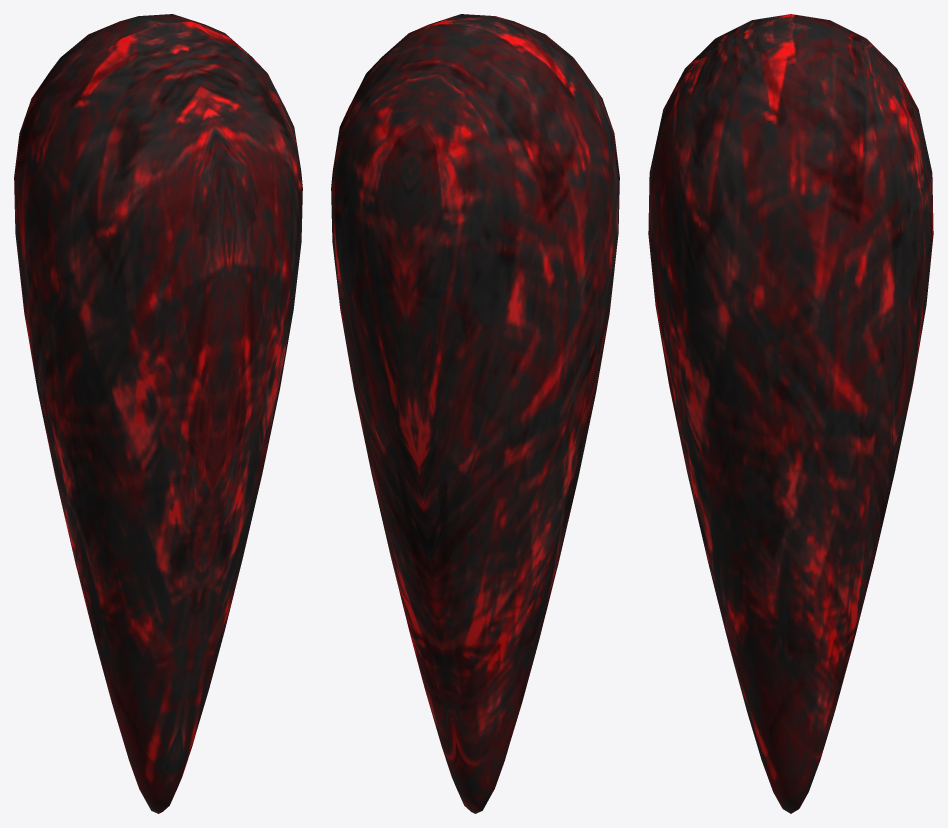
The model's file is web1.glb.
3 renders of one model, left to right at view 1: azimuth 30°, elevation 25°; view 2: azimuth 150°, elevation 25°; view 3: azimuth 270°, elevation 25°, orthographic.
Parts seen in each view (by area): view 1: Cube; view 2: Cube; view 3: Cube.
Boxes of the visible parts, <box> form: Cube: <box>14,14,302,813</box>; Cube: <box>331,14,619,813</box>; Cube: <box>648,14,933,813</box>.
Bounding box in the file's own units: 1.92 × 5.86 × 1.92.
Materials: 1 (1 with a texture image).
